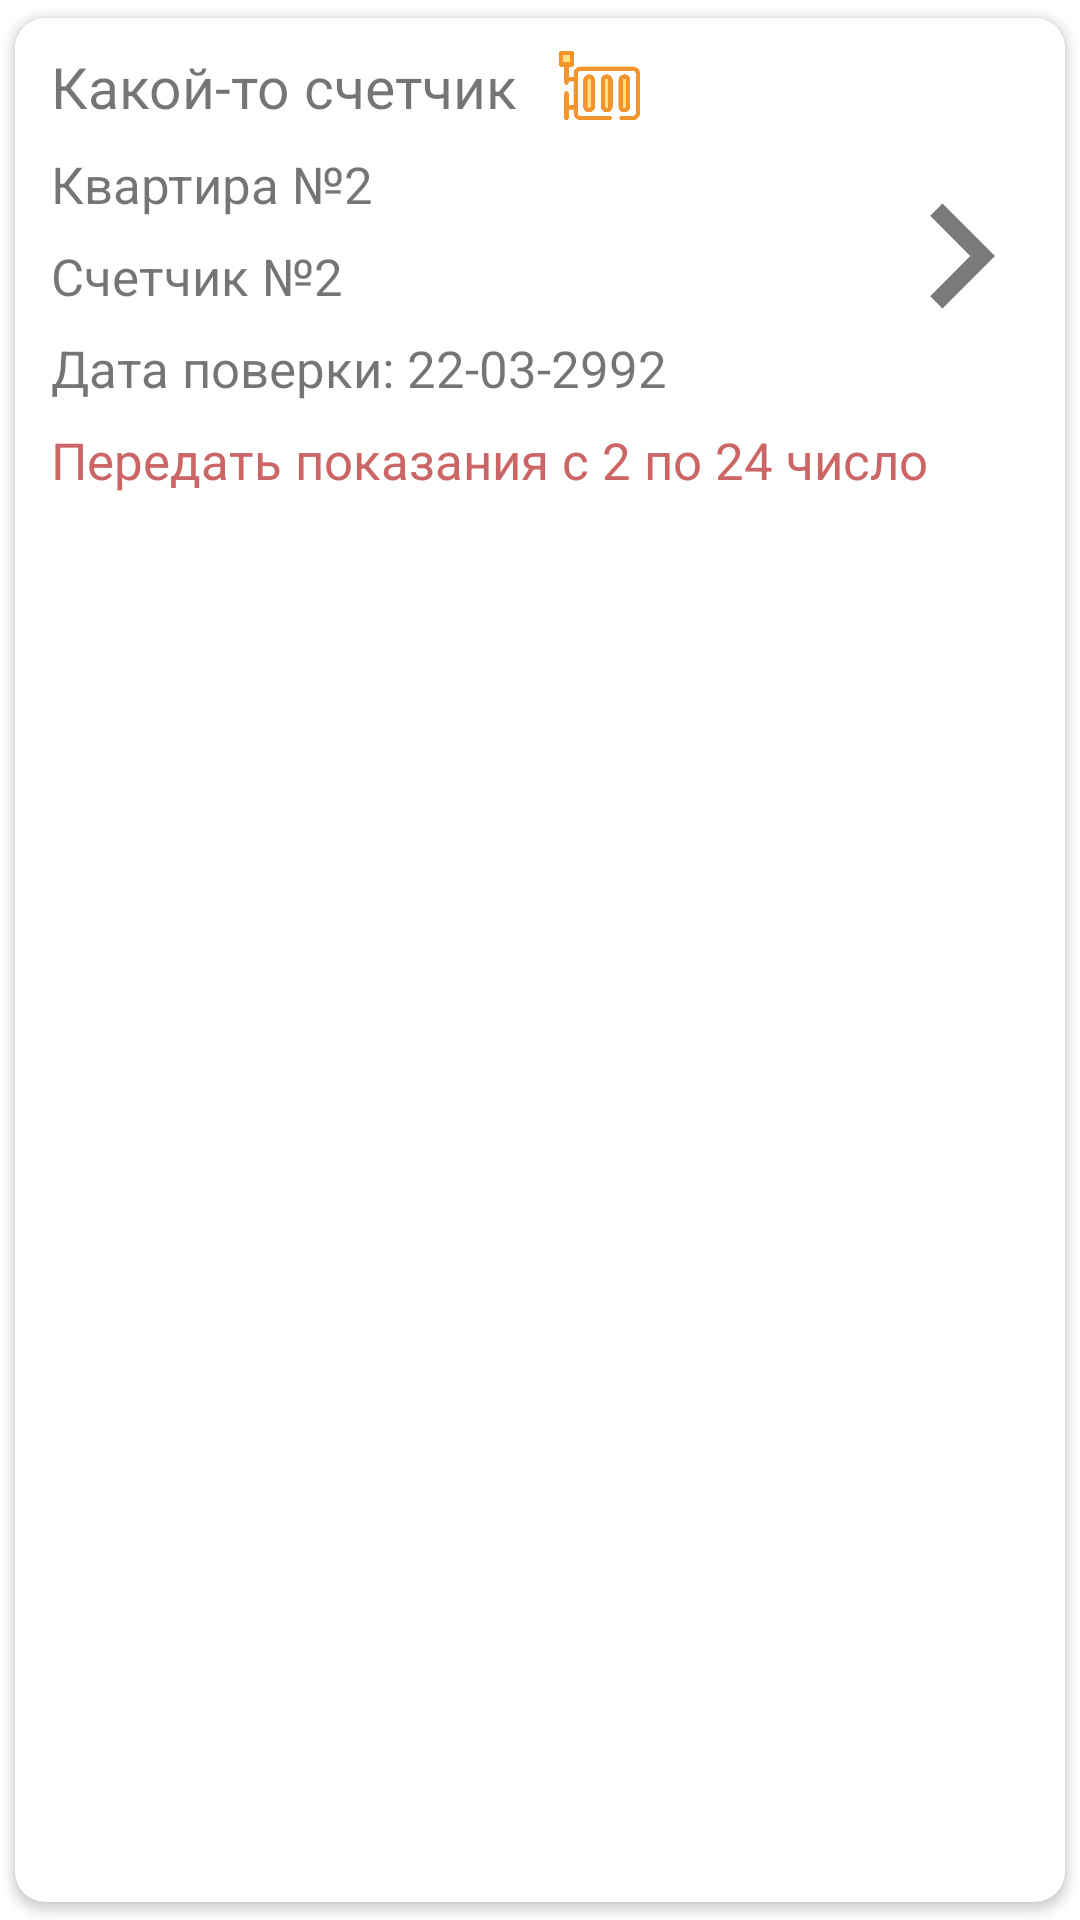

Locate icon controls on the screen. Image size 1080x1920, boxes as region(x1, y1, x2, y2).
keyboard arrow right: region(930, 203, 995, 309)
warm: region(559, 51, 640, 120)
